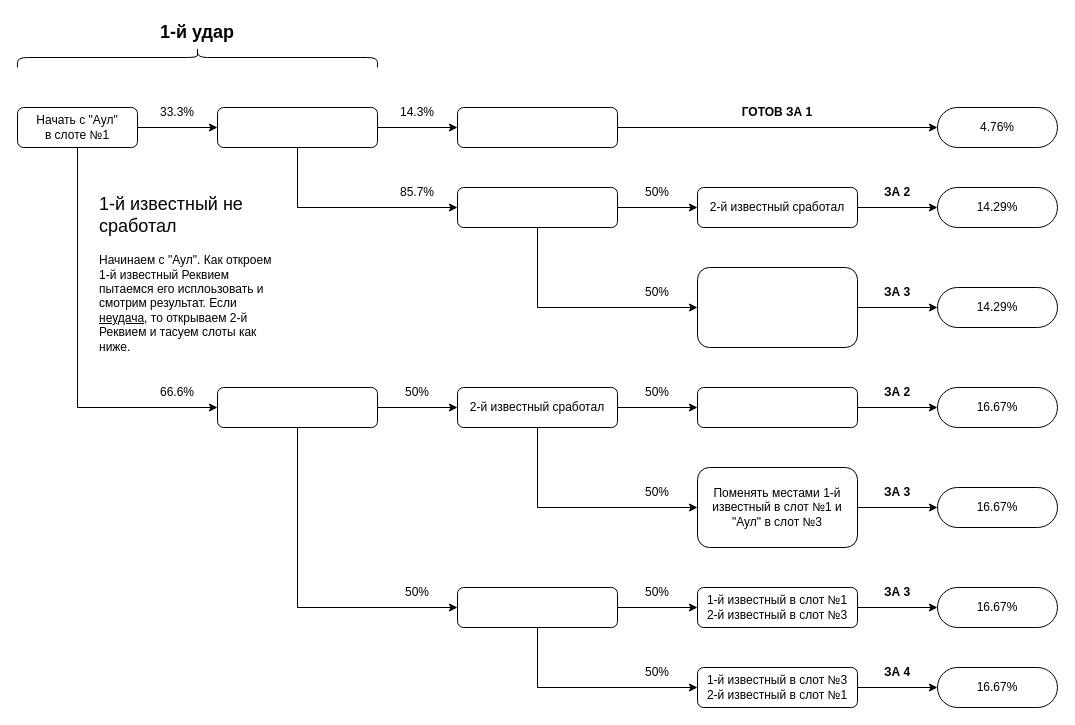
This 1075x725 diagram has some shape labels left out. The centre of each missing label's shape, as x and y in pixels:
1-й известный сработал: the point at 297,127
1-й известный сработал в слоте №3: the point at 777,407
2-й известный в слот №2 1-й известный в слот №3: the point at 297,407
2-й известный НЕ сработал "Аул" точно в слот №2: the point at 537,607
2-й известный НЕ сработал; Переместить "Аул" на 3-й слот: the point at 777,307
Случайный мод НЕ сработал: the point at 537,207
Случайный мод сработал: the point at 537,127
